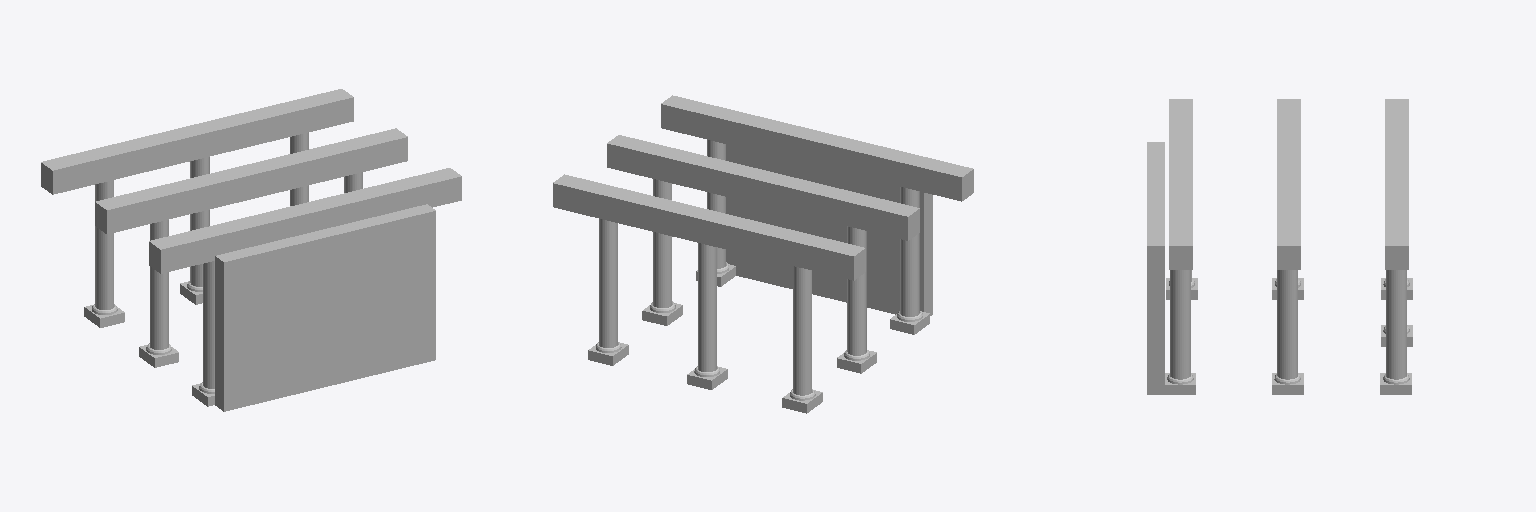
Rendered from spawn.obj.
3 renders of one model, left to right at view 1: azimuth 30°, elevation 25°; view 2: azimuth 150°, elevation 25°; view 3: azimuth 270°, elevation 25°, orthographic.
Visible parts, largest first — view 1: Cube.003_Cube.004, Cube.010_Cube.013, Cube.009_Cube.012, Cube.008_Cube.011, Cylinder.004, Cylinder.005, Cylinder.006, Cylinder.003, Cylinder.001; view 2: Cube.003_Cube.004, Cube.010_Cube.013, Cube.009_Cube.012, Cube.008_Cube.011, Cylinder.004, Cylinder.001, Cylinder.003, Cylinder.005, Cylinder.006, Cylinder, Cylinder.002; view 3: Cube.003_Cube.004, Cube.010_Cube.013, Cube.009_Cube.012, Cube.008_Cube.011, Cylinder.001, Cylinder.002, Cylinder.
Boxes of the visible parts, x1=… form: Cube.003_Cube.004: x1=215, y1=204, x2=435, y2=411; Cube.010_Cube.013: x1=41, y1=89, x2=353, y2=194; Cube.009_Cube.012: x1=95, y1=128, x2=407, y2=233; Cube.008_Cube.011: x1=149, y1=168, x2=461, y2=273; Cylinder.004: x1=95, y1=180, x2=113, y2=309; Cylinder.005: x1=150, y1=220, x2=168, y2=349; Cylinder.006: x1=203, y1=261, x2=214, y2=388; Cylinder.003: x1=190, y1=157, x2=209, y2=286; Cylinder.001: x1=290, y1=132, x2=308, y2=205; Cube.003_Cube.004: x1=726, y1=144, x2=932, y2=315; Cube.010_Cube.013: x1=553, y1=174, x2=865, y2=280; Cube.009_Cube.012: x1=607, y1=135, x2=919, y2=240; Cube.008_Cube.011: x1=661, y1=95, x2=973, y2=201; Cylinder.004: x1=793, y1=266, x2=811, y2=395; Cylinder.001: x1=599, y1=219, x2=617, y2=347; Cylinder.003: x1=698, y1=243, x2=716, y2=371; Cylinder.005: x1=847, y1=226, x2=866, y2=355; Cylinder.006: x1=900, y1=187, x2=919, y2=316; Cylinder: x1=653, y1=179, x2=671, y2=307; Cylinder.002: x1=707, y1=140, x2=725, y2=268; Cube.003_Cube.004: x1=1147, y1=142, x2=1164, y2=394; Cube.010_Cube.013: x1=1385, y1=99, x2=1408, y2=269; Cube.009_Cube.012: x1=1277, y1=99, x2=1300, y2=269; Cube.008_Cube.011: x1=1169, y1=99, x2=1192, y2=269; Cylinder.001: x1=1386, y1=270, x2=1406, y2=379; Cylinder.002: x1=1170, y1=270, x2=1190, y2=379; Cylinder: x1=1277, y1=270, x2=1297, y2=379.
Size of the model in its own units: 19.54 by 10.34 by 14.89.